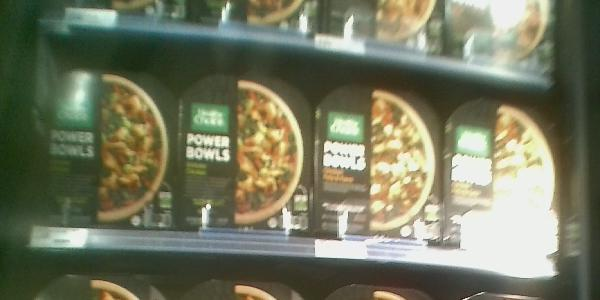pizza: (178, 76, 316, 233), (44, 67, 175, 232), (321, 86, 443, 246), (448, 99, 555, 253)
